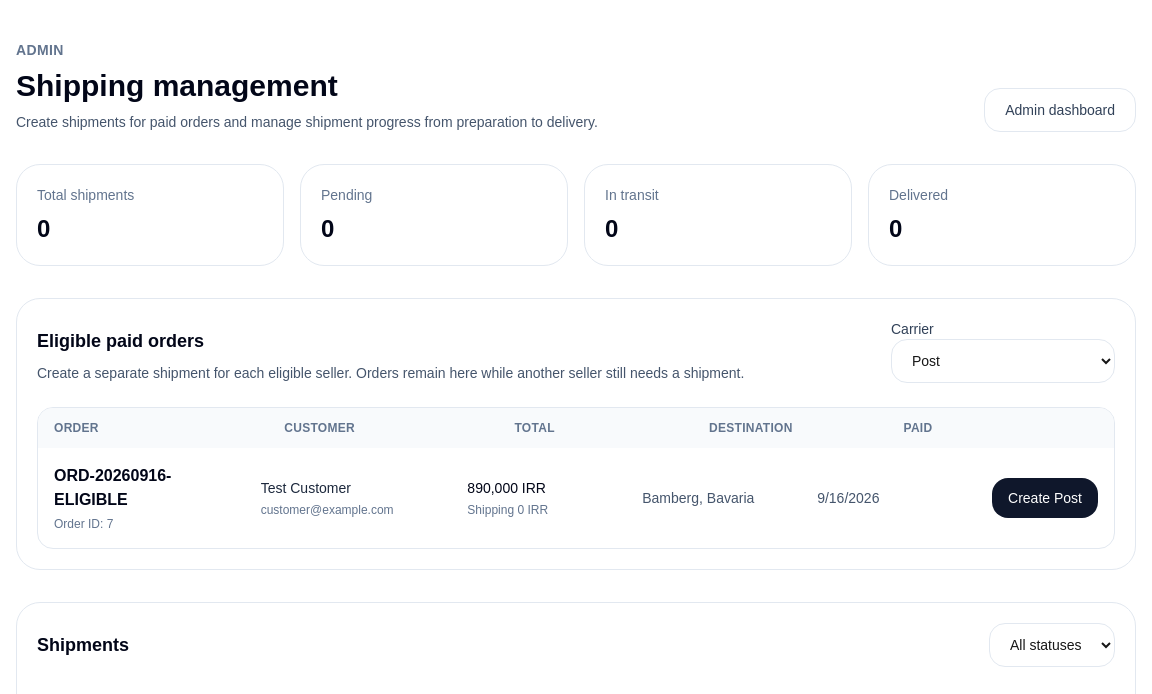
Test: AdminShipmentsList › shows a create error and keeps the eligible order visible
The image size is (1152, 694).
Expected: the text "ORD-20260916-ELIGIBLE" is shown, [54,467,171,508]
Click the button "Create Post" at (1045, 498), box [992,478,1098,518]
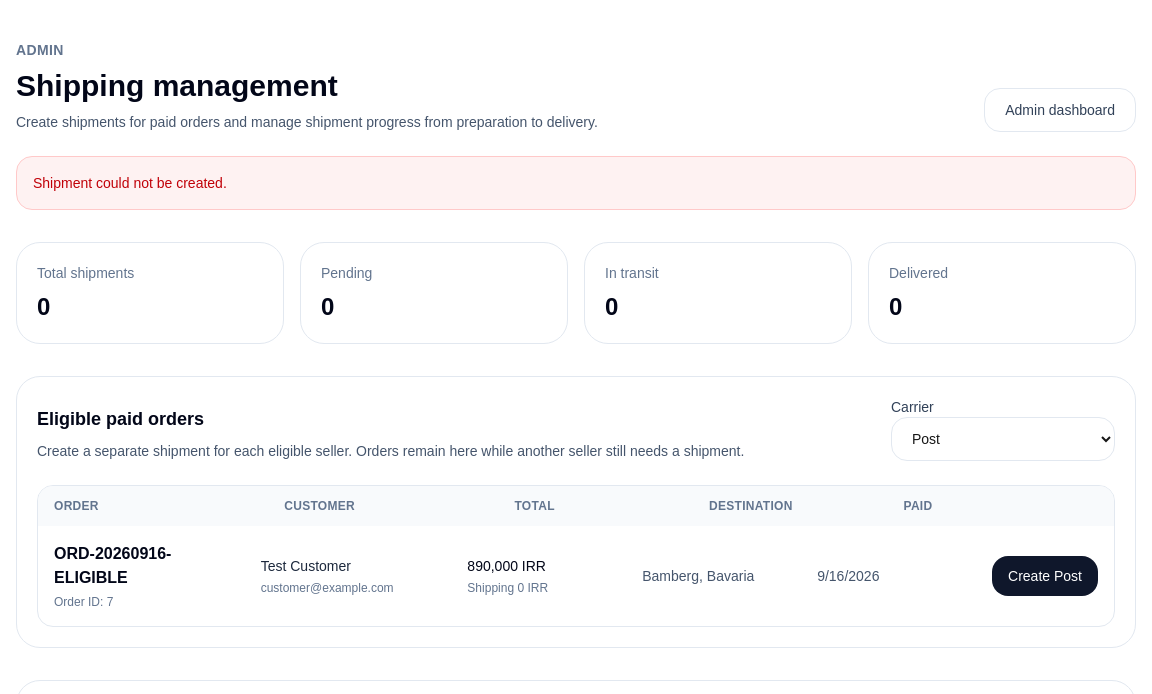
Expected: the text "ORD-20260916-ELIGIBLE" is shown, [54,545,171,586]
Now the text "Shipment could not be created." is shown, box [16,156,1136,210]
